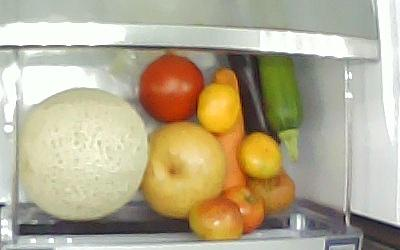carrot: (211, 64, 247, 187)
eggplant: (226, 52, 281, 145)
melon: (19, 86, 148, 220)
pear: (141, 120, 225, 218)
prune: (187, 196, 244, 240), (218, 183, 264, 234), (245, 170, 295, 212)
tangerine: (196, 81, 240, 132), (236, 130, 281, 178)
tomato: (138, 52, 204, 122)
zucchini: (256, 52, 303, 163)
